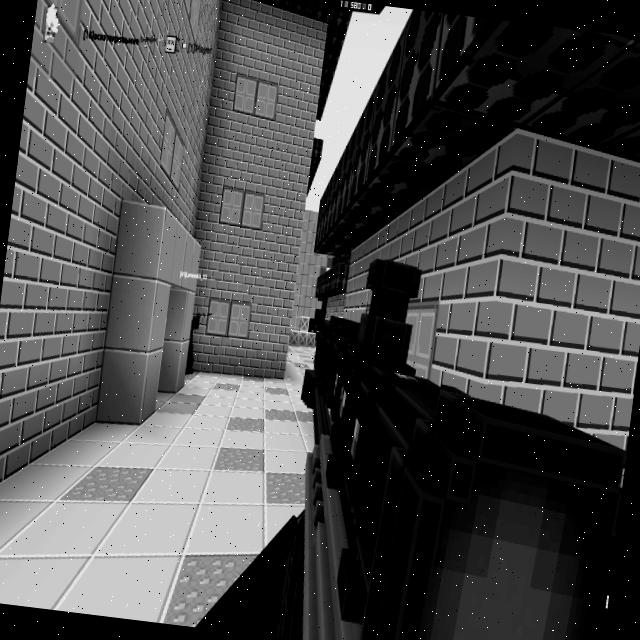Player: (184, 306, 213, 376)
